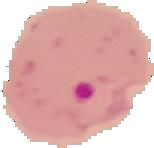parasitized: (4, 10, 149, 143), (69, 71, 131, 130)
